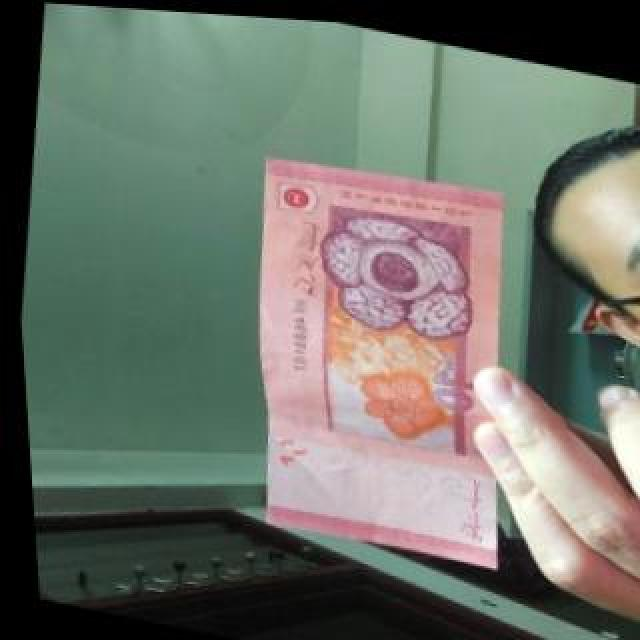10 Ringgit: (218, 140, 545, 564)
